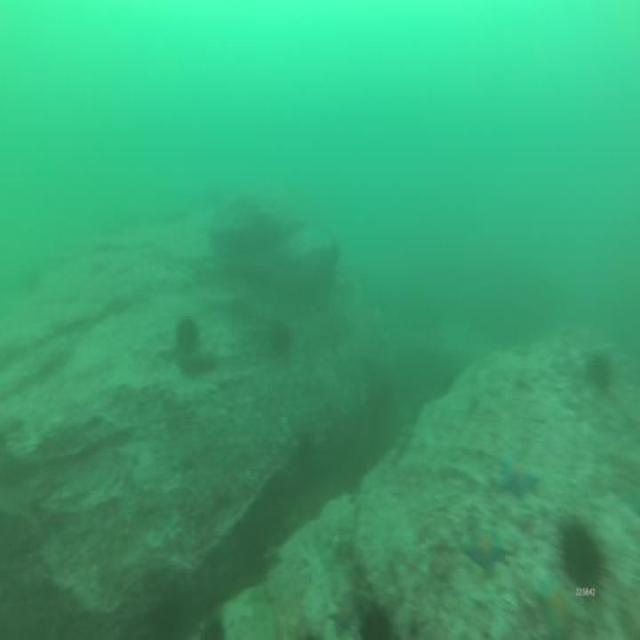echinus: (563, 531, 601, 596), (177, 318, 199, 348), (589, 356, 607, 390), (269, 320, 287, 348)
starfish: (463, 528, 502, 574), (500, 455, 538, 498), (331, 599, 353, 637)
